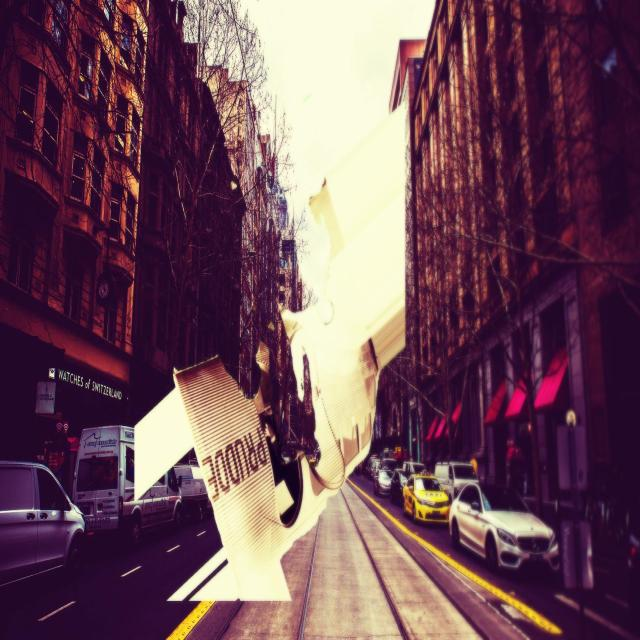airplane: (135, 99, 405, 604)
